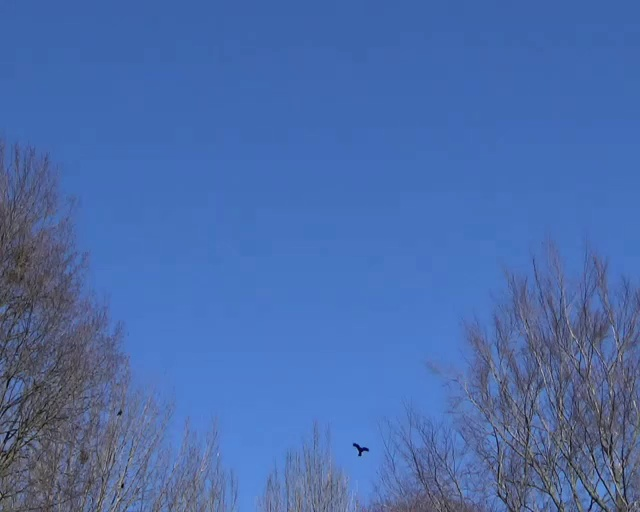BIRD: (352, 442, 369, 456)
